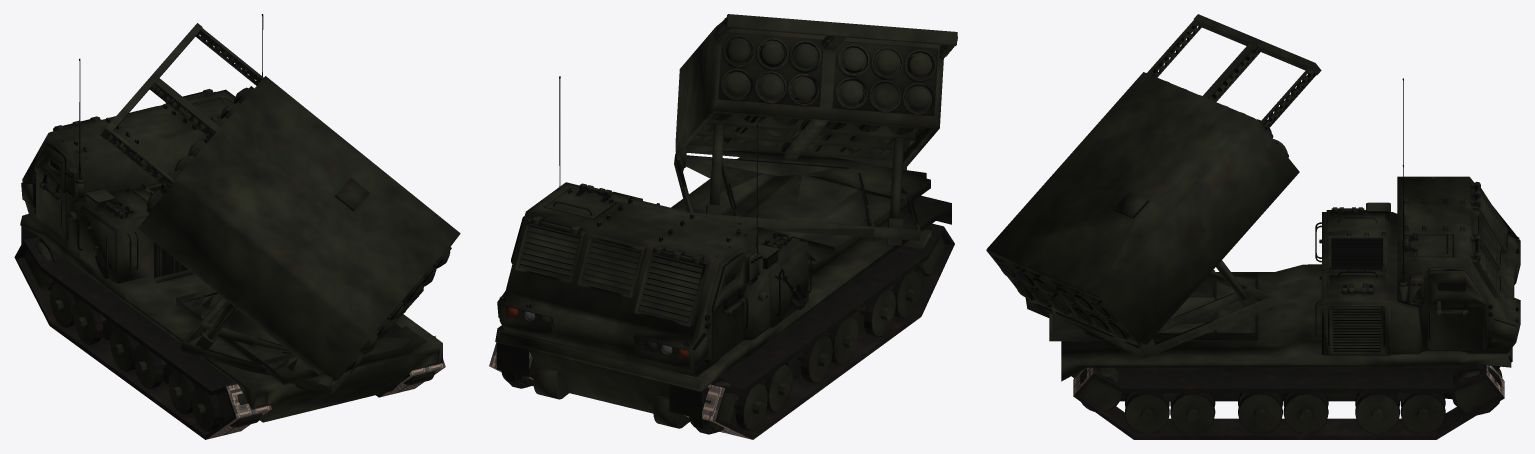
The model's file is m270-wreck.glb.
3 renders of one model, left to right at view 1: azimuth 30°, elevation 25°; view 2: azimuth 150°, elevation 25°; view 3: azimuth 270°, elevation 25°, orthographic. The views are drawn at different scales.
Parts seen in each view (by area): view 1: turret, hull; view 2: hull, turret; view 3: hull, turret.
Boxes of the visible parts, x1,y1,x2,y2 form: turret: (100,23,460,395); hull: (14,14,445,439); hull: (489,76,954,439); turret: (674,14,957,245); hull: (1049,78,1520,439); turret: (986,14,1321,358).
Bounding box in the file's own units: 5.17 × 5.26 × 7.99.
2 materials, 2 textured.
